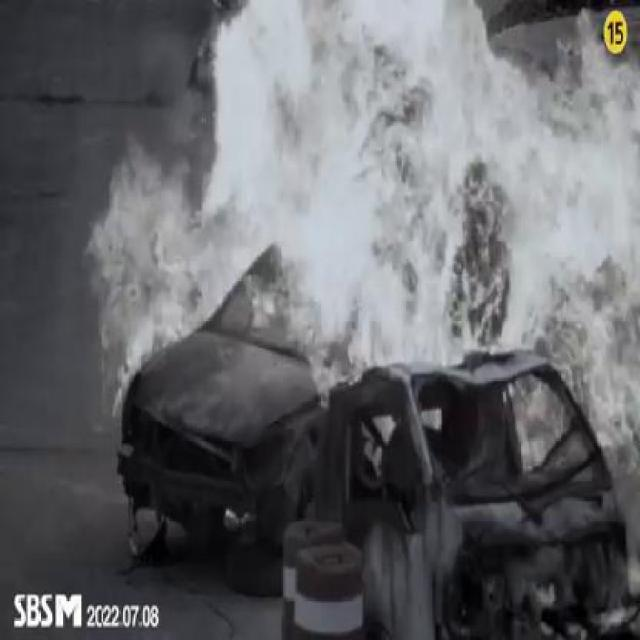fire: (228, 21, 468, 348), (499, 88, 638, 370)
